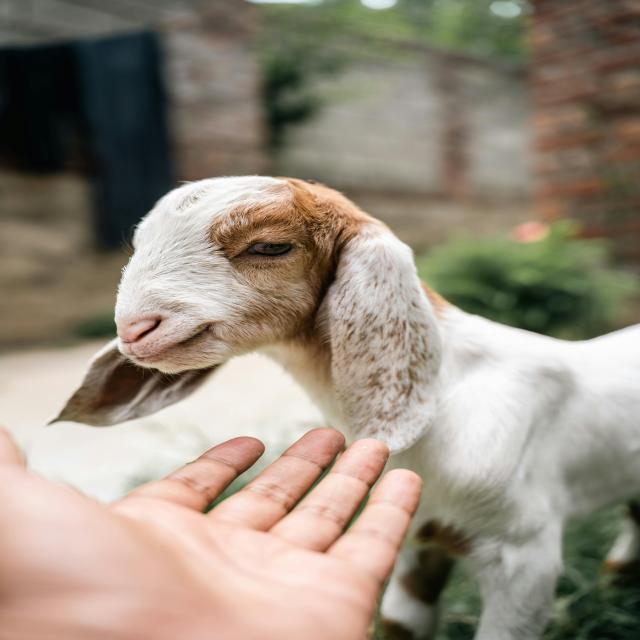Goat: (55, 176, 640, 640)
